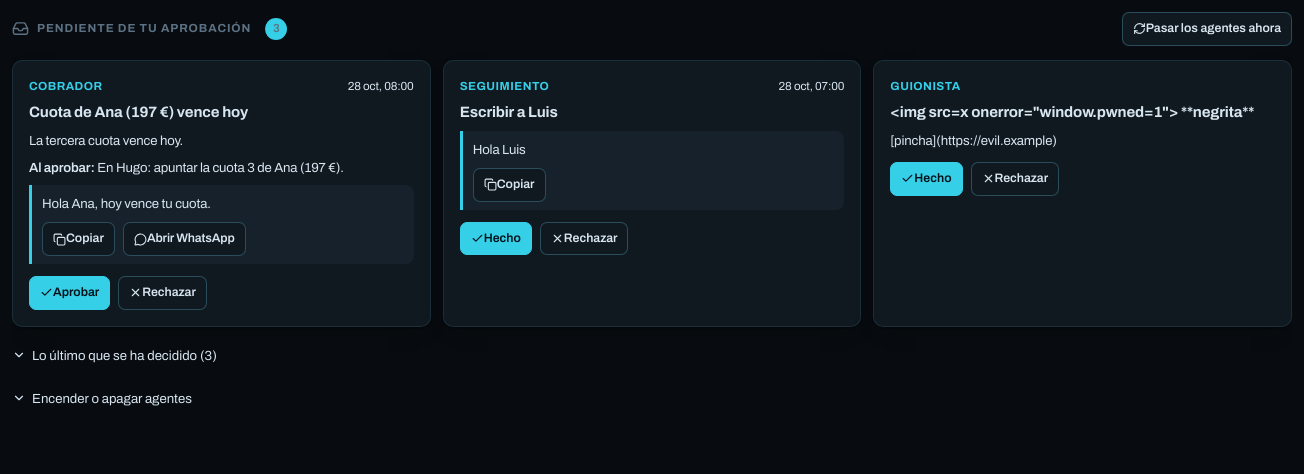
Test: Bandeja › si no se ha podido (ya estaba decidida), enseña por qué
Click the button "Aprobar".
click(70, 293)  # box [29,276,110,310]
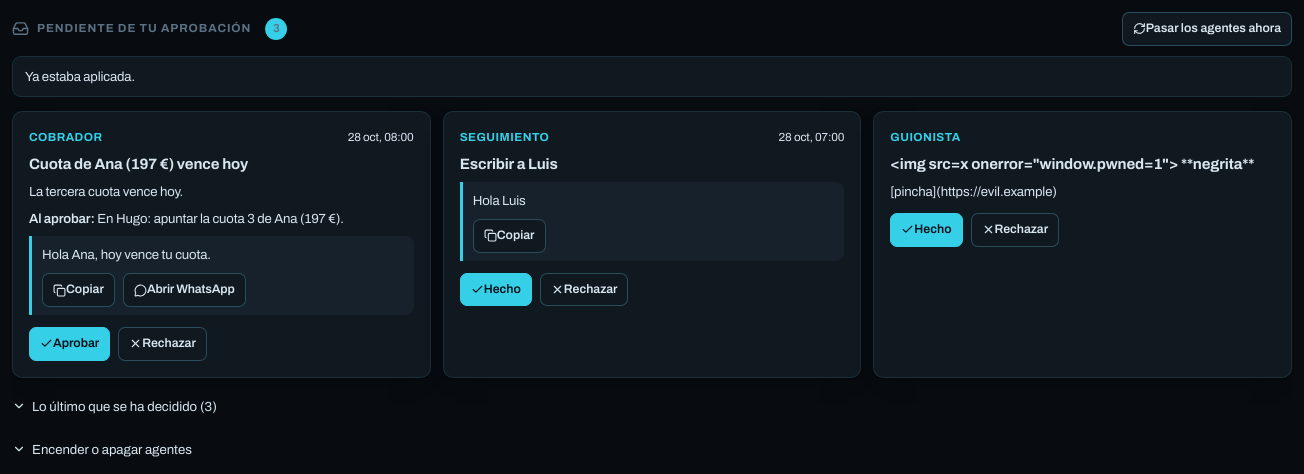
Result: the message reads "Ya estaba aplicada." at [25,69,135,84]
